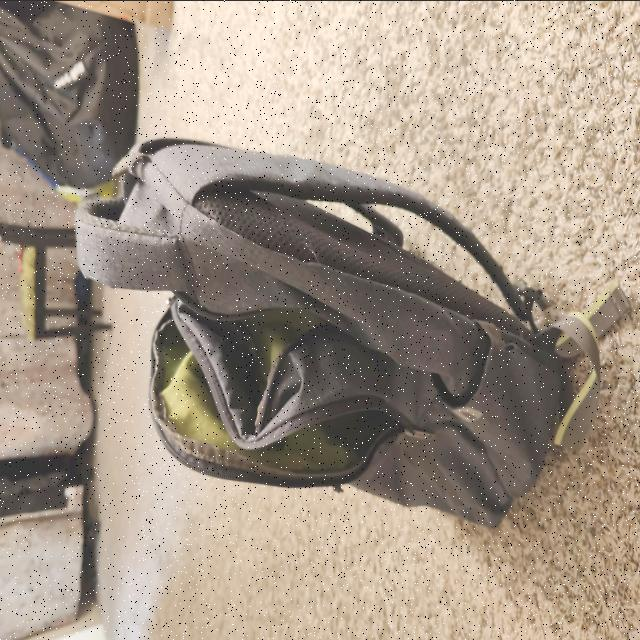bag: (89, 157, 578, 481)
